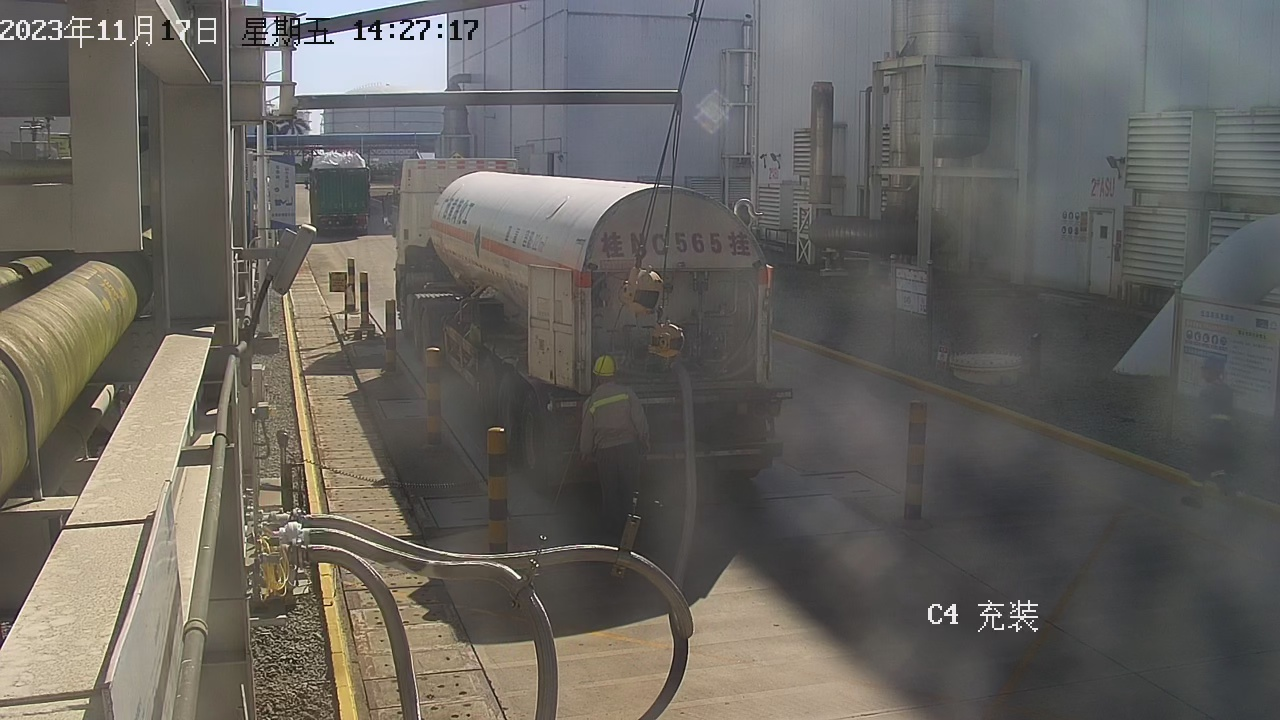Head_with_Helmet: (585, 349, 634, 385), (1199, 349, 1228, 385)
Uniform: (569, 374, 670, 539), (1182, 382, 1248, 521)
